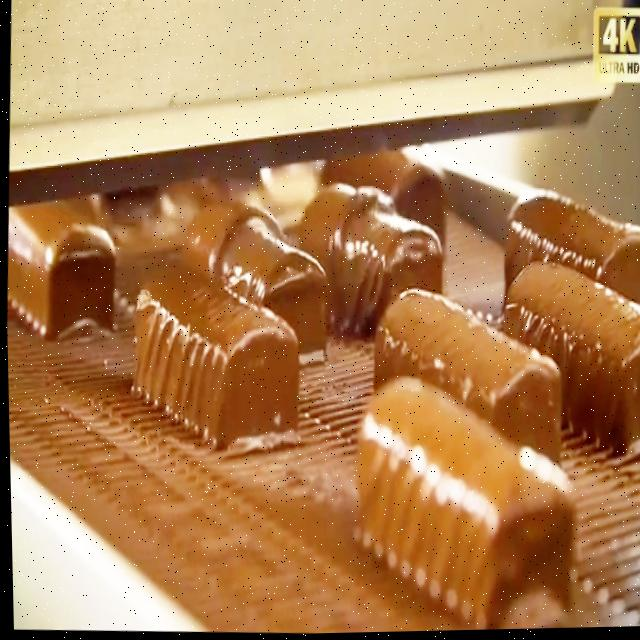Choco: (343, 367, 580, 634), (364, 280, 566, 468), (122, 253, 304, 454), (493, 254, 640, 456), (175, 190, 336, 371), (293, 163, 449, 342), (490, 189, 640, 324), (497, 182, 640, 311), (3, 192, 119, 342), (385, 148, 457, 267)
